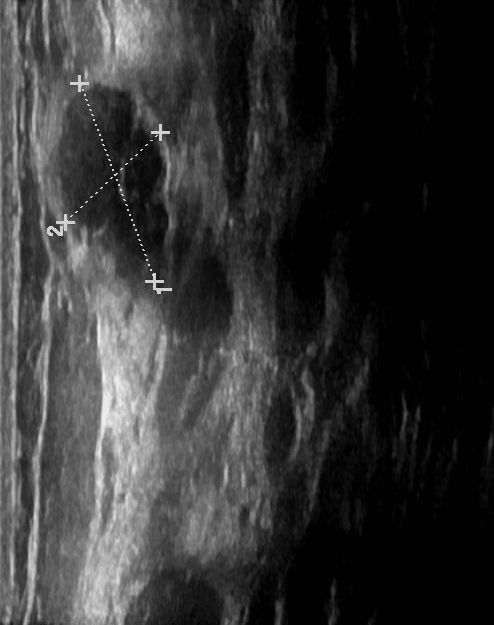Benign: (50, 90, 167, 252), (120, 574, 227, 625)
